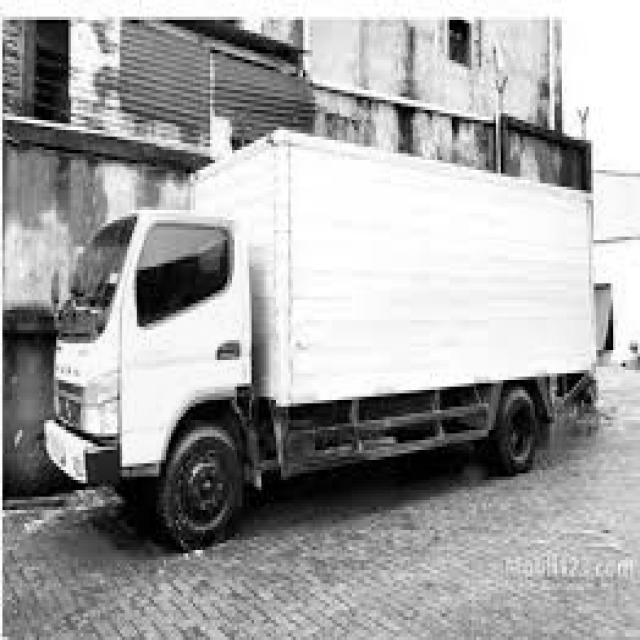truck: (40, 188, 277, 554)
